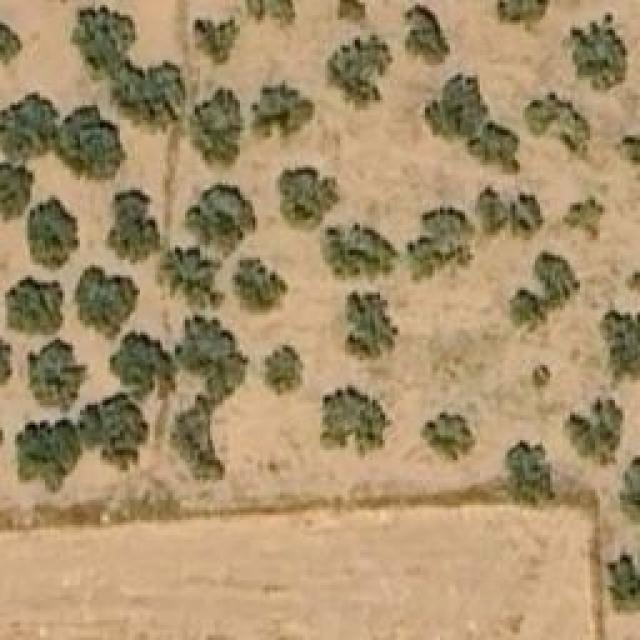Tree: (327, 0, 395, 108), (560, 13, 628, 93), (320, 383, 393, 456), (80, 395, 148, 473), (180, 312, 248, 390), (13, 420, 83, 493), (408, 207, 473, 285), (75, 263, 138, 343), (510, 250, 573, 330), (57, 105, 125, 178), (180, 182, 253, 250), (187, 90, 245, 170), (110, 330, 175, 400), (423, 72, 488, 140), (102, 190, 160, 265), (28, 342, 91, 410), (0, 92, 60, 160), (563, 397, 623, 465), (343, 290, 398, 363), (325, 222, 393, 280), (278, 167, 341, 225), (5, 275, 63, 333), (253, 85, 316, 138), (398, 5, 451, 68), (28, 203, 78, 268), (602, 303, 640, 388), (75, 12, 130, 70), (120, 65, 178, 118), (233, 258, 288, 313), (423, 410, 476, 465), (157, 248, 215, 298), (505, 443, 550, 503), (470, 123, 520, 176), (0, 163, 38, 216), (563, 198, 606, 243), (265, 345, 303, 395), (607, 552, 640, 609), (190, 20, 235, 60), (475, 185, 508, 233), (510, 195, 545, 240), (617, 455, 640, 522), (245, 0, 295, 28), (497, 0, 547, 22), (0, 22, 22, 67), (622, 135, 640, 165)
